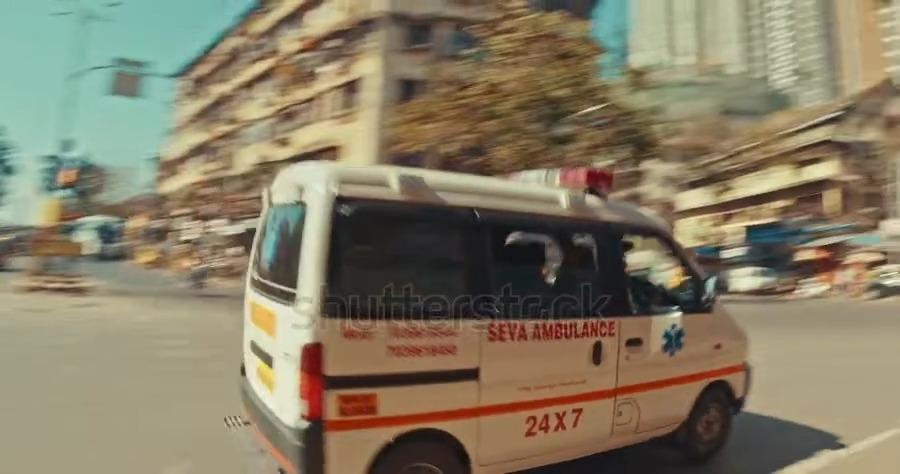Ambulance: (530, 320, 617, 342), (657, 323, 689, 359)
